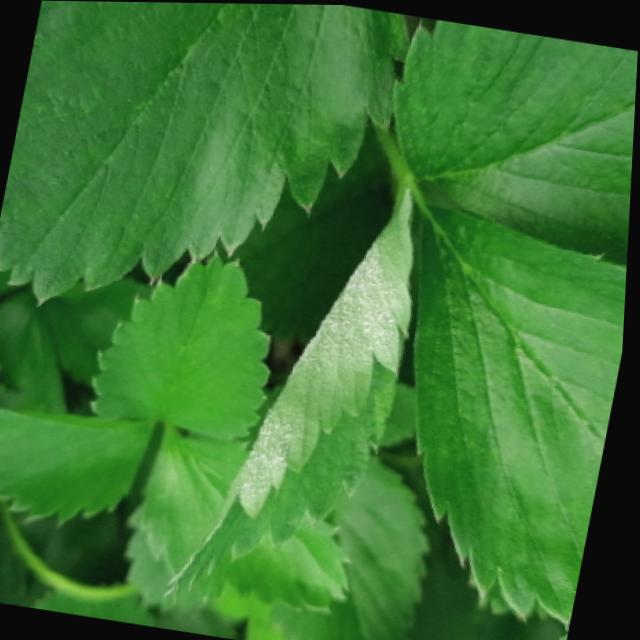Powdery Mildew Leaf: (170, 191, 416, 600), (417, 203, 629, 630)
